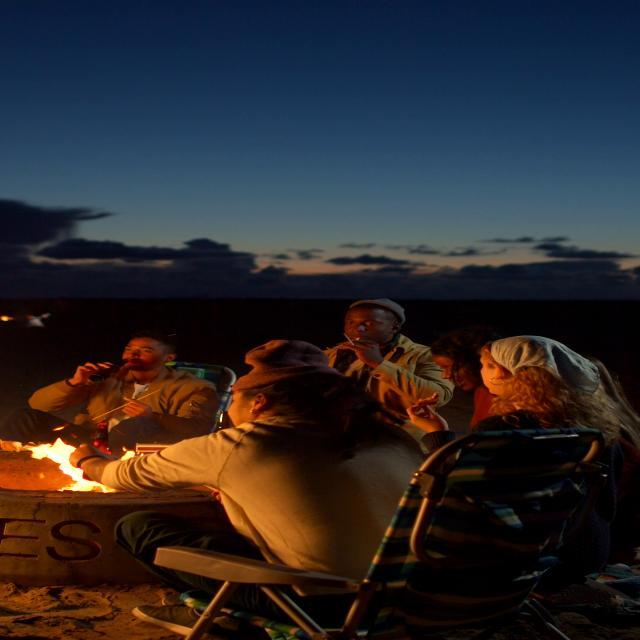Fire: (13, 440, 117, 493)
